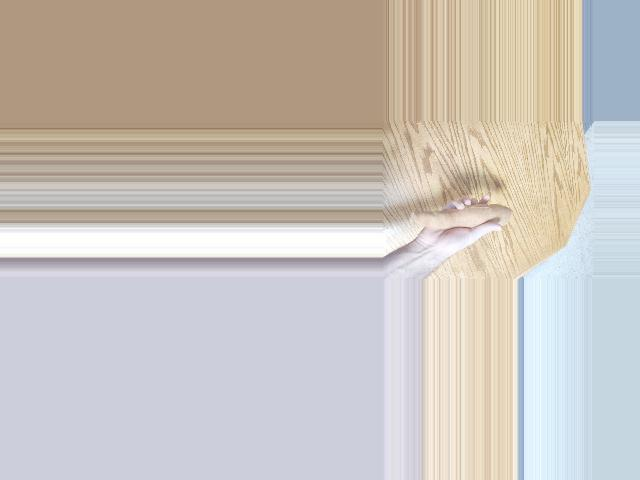sweet_potato: (406, 201, 520, 241)
